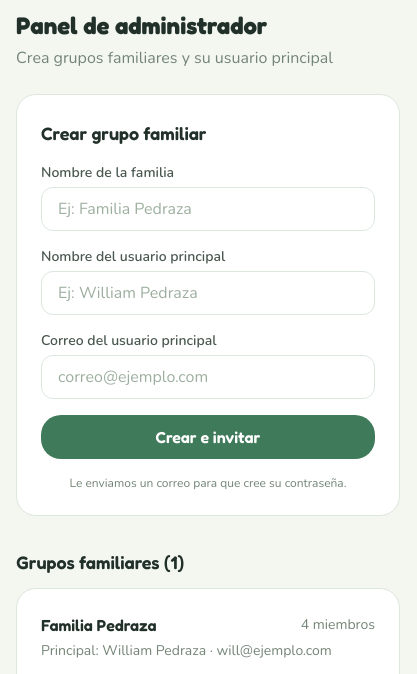
AdminPanelPage › muestra el error de la función si la creación falla
In the field labelled "Nombre de la familia": [208, 209] box [41,187,375,231], type "Familia Gómez"
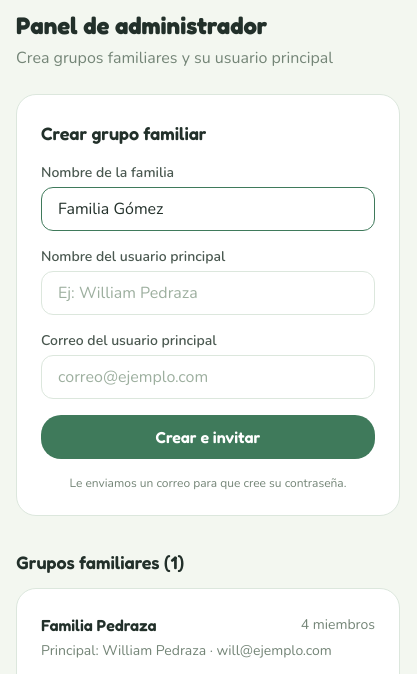
In the field labelled "Nombre del usuario principal": [208, 293] box [41,271,375,315], type "Ana Gómez"
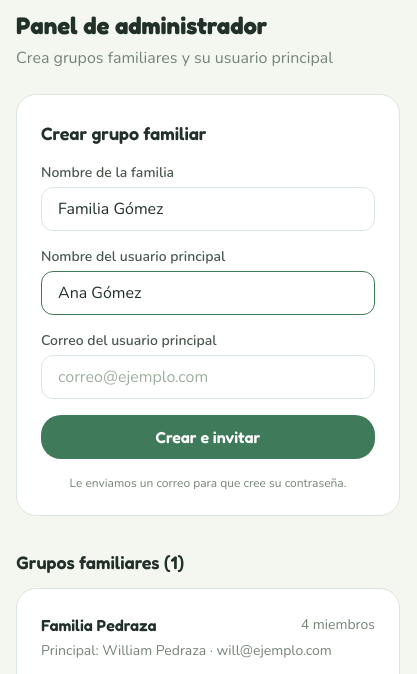
In the field labelled "Correo del usuario principal": [208, 377] box [41,355,375,399], type "ana@ejemplo.com"
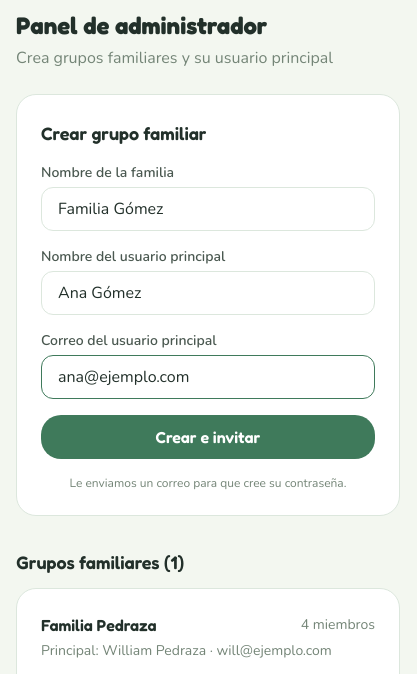
Click the button "Crear e invitar": [208, 437] box [41,415,375,459]
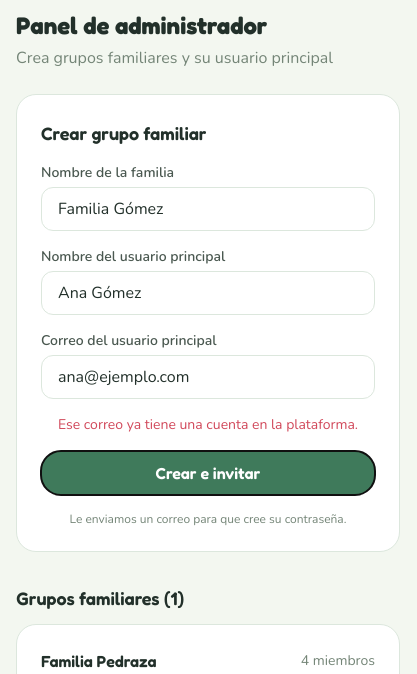
Now the text "Ese correo ya tiene una cuenta en la plataforma." is shown, box [41,415,375,435]
